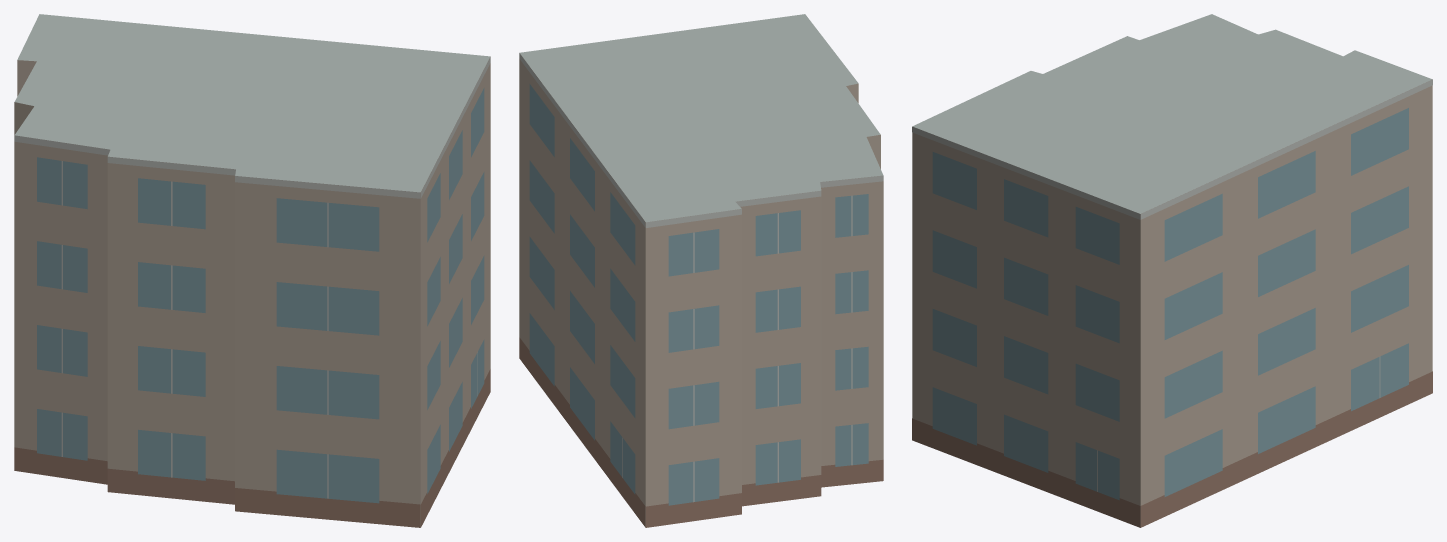
Rendered from survey-upis-32642062.glb.
3 views of the same model, side by side, from view 1: azimuth 30°, elevation 25°; view 2: azimuth 150°, elevation 25°; view 3: azimuth 270°, elevation 25° (orthographic). The views are drawn at different scales.
Parts seen in each view (by area): view 1: survey-upis-32642062.tmp; view 2: survey-upis-32642062.tmp; view 3: survey-upis-32642062.tmp.
Part boxes in pixels (bbox=[...]): survey-upis-32642062.tmp: bbox=[14, 14, 490, 527]; survey-upis-32642062.tmp: bbox=[519, 14, 883, 527]; survey-upis-32642062.tmp: bbox=[912, 14, 1432, 527].
Size of the model in its own units: 17.5 by 12.8 by 19.25.
